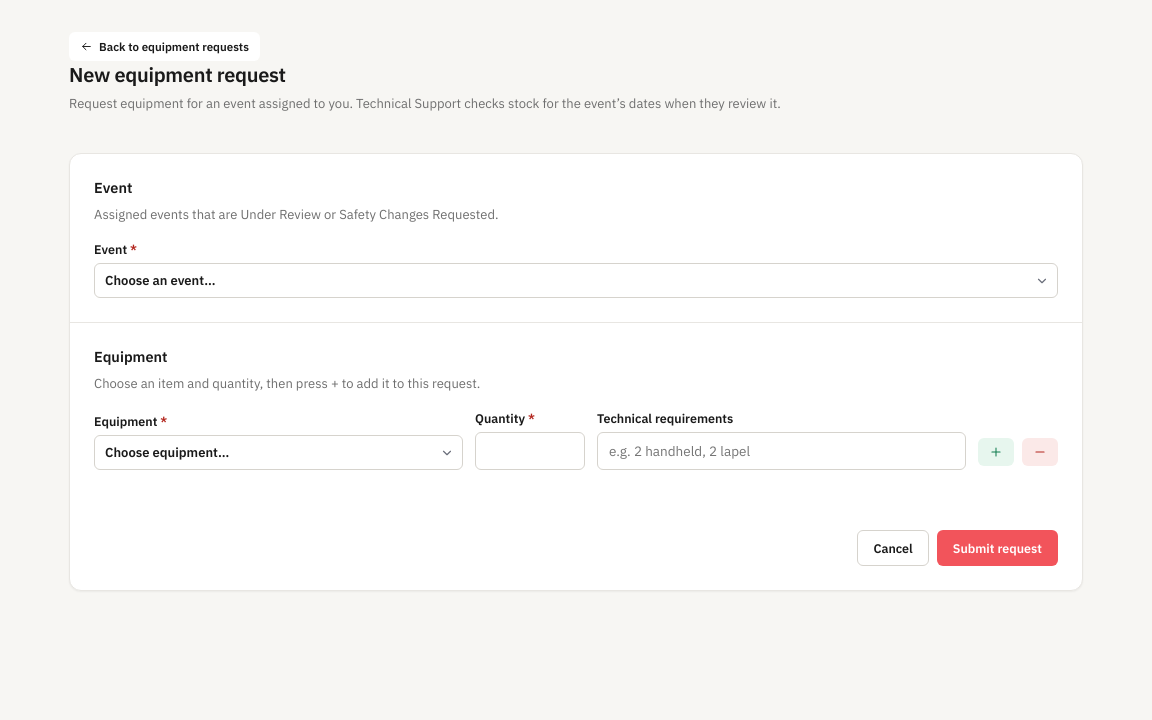
Test: + adds the row to the Added equipment list and leaves an empty row ready
The image size is (1152, 720).
Expected: the dropdown labelled "Event *" is shown, x1=94 y1=263 x2=1058 y2=298
Select "Wireless mic (Microphone)" in the dropdown labelled "Equipment *" at (279,453), box x1=94 y1=435 x2=463 y2=470
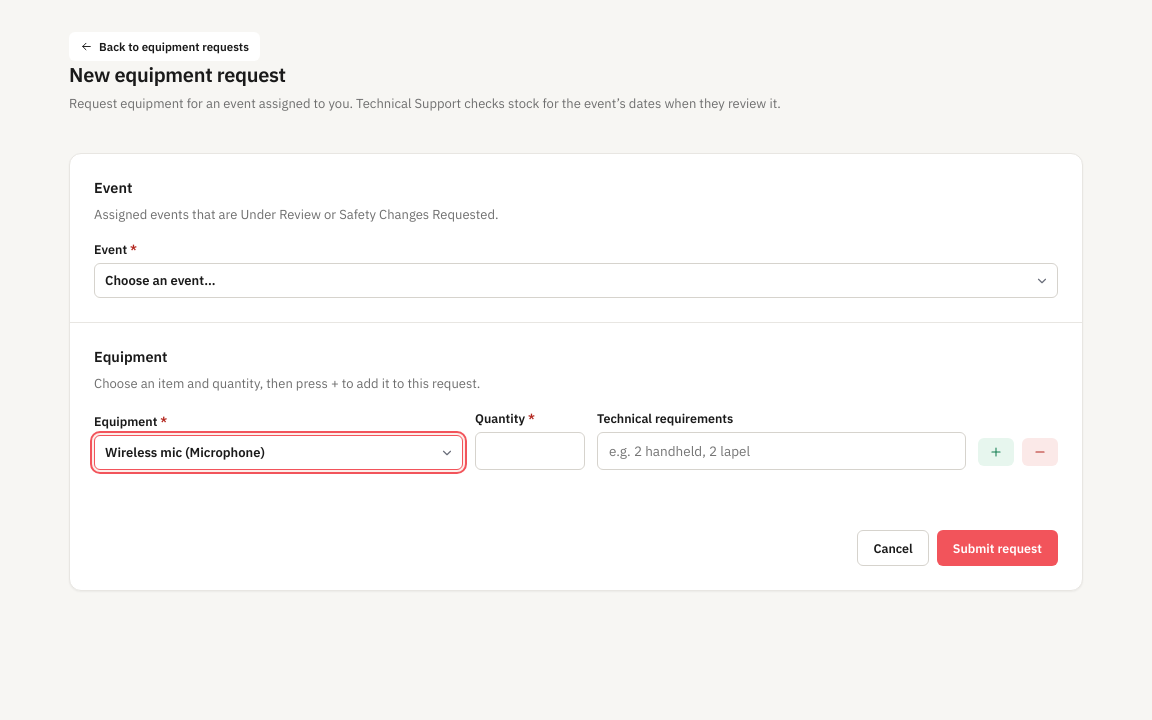
Type "4" into the number field labelled "Quantity *" at (530,451), box x1=475 y1=432 x2=585 y2=470
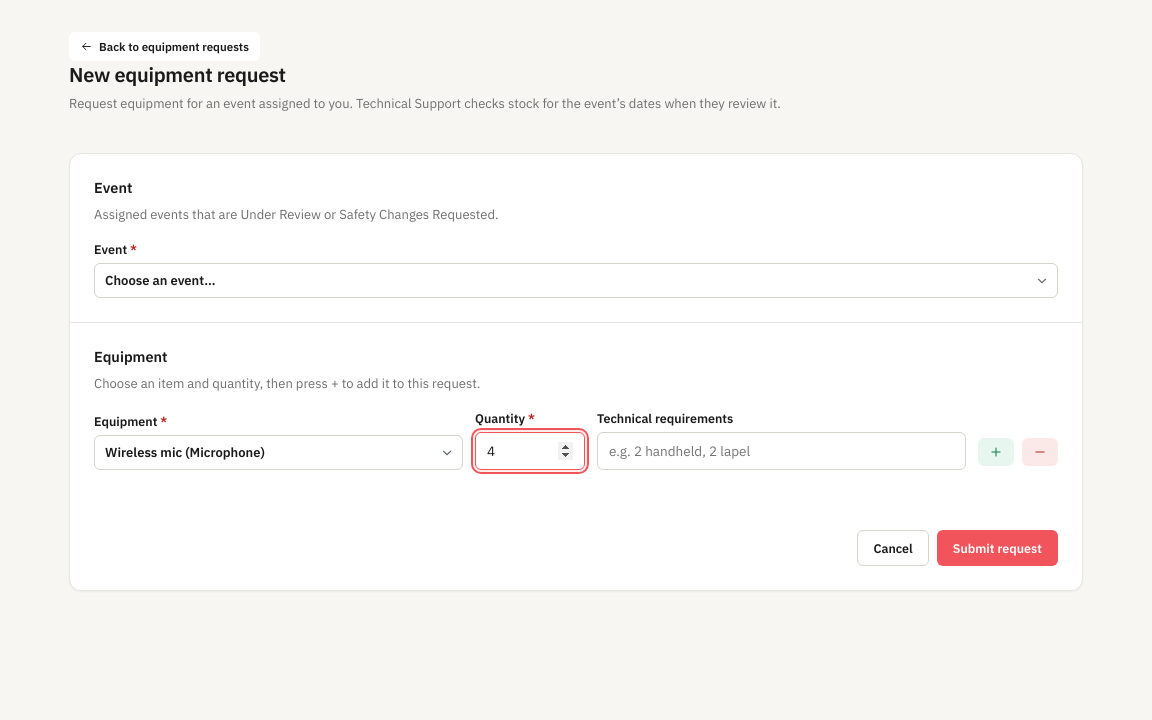
Type "2 handheld" into the field labelled "Technical requirements" at (781,451), box x1=597 y1=432 x2=966 y2=470
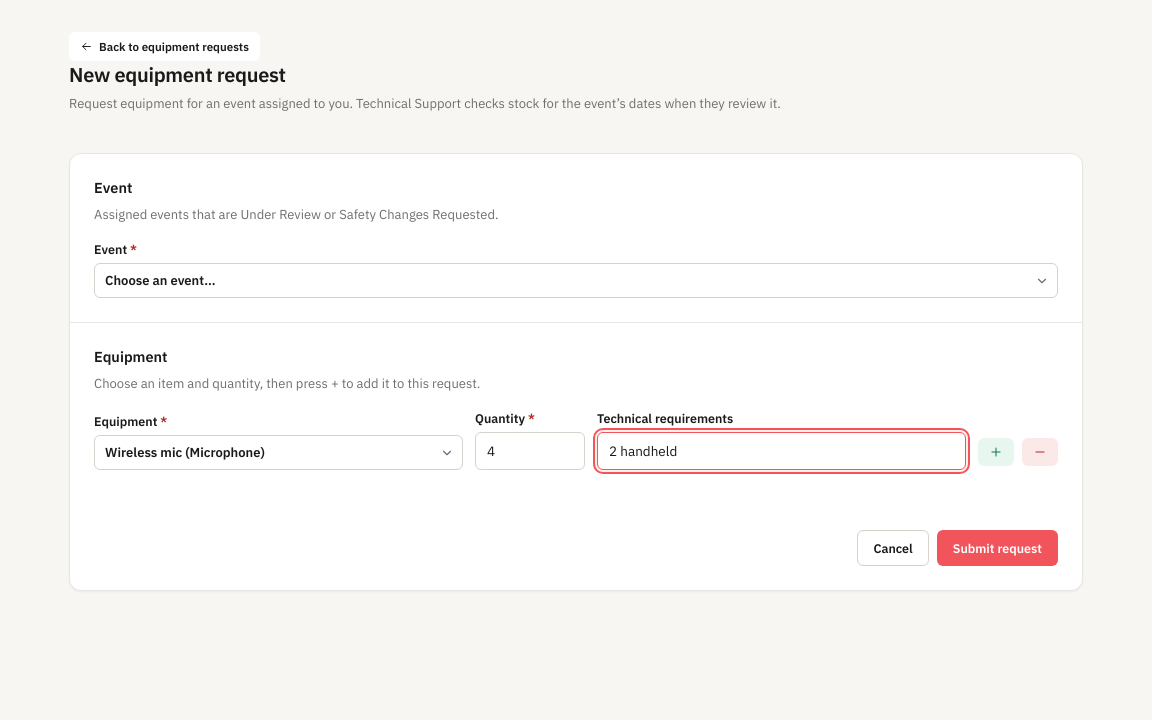
Click the button named "Add this equipment" at (996,452), box x1=978 y1=438 x2=1014 y2=466
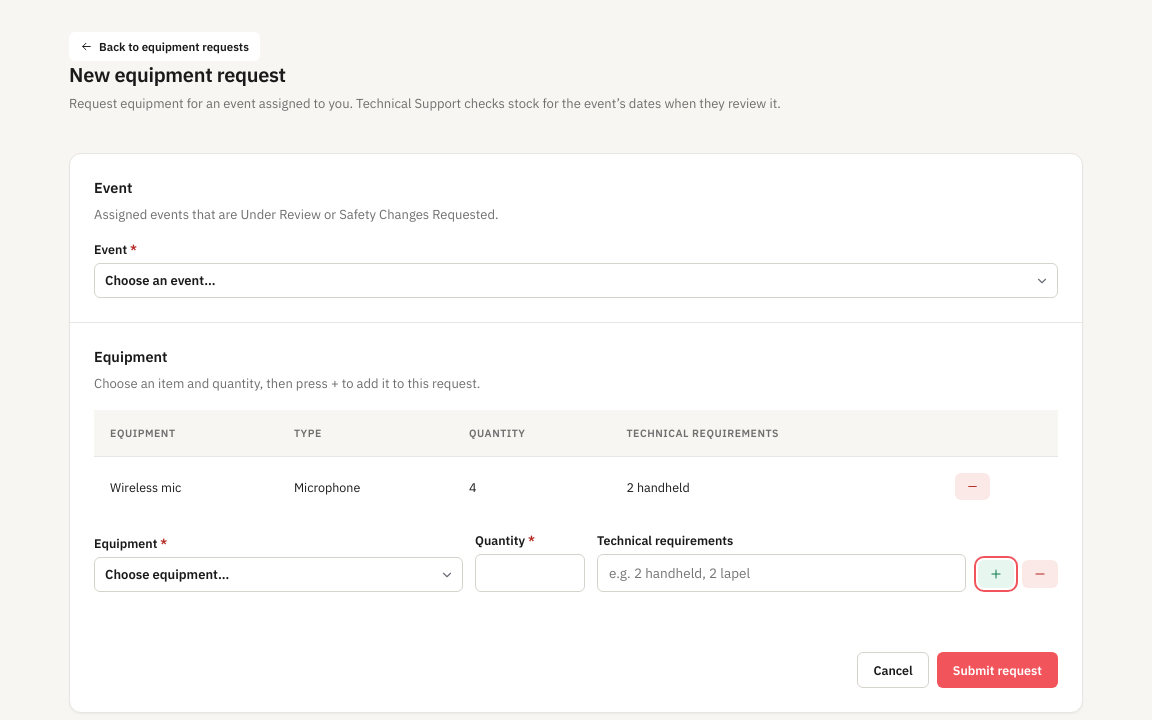
Expected: the cells read "Wireless mic", "Microphone", "4", "2 handheld", "", in this order, x1=94 y1=457 x2=278 y2=516; x1=278 y1=457 x2=453 y2=516; x1=453 y1=457 x2=610 y2=516; x1=610 y1=457 x2=939 y2=516; x1=939 y1=457 x2=1058 y2=516
